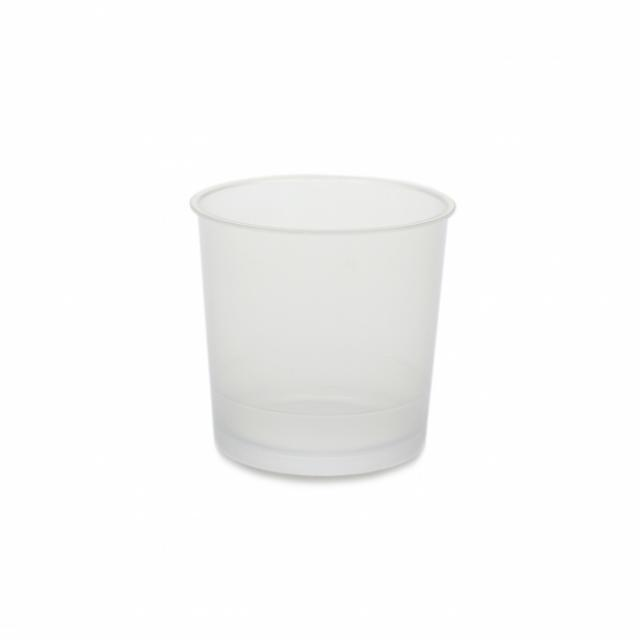Plastic: (187, 176, 450, 482)
